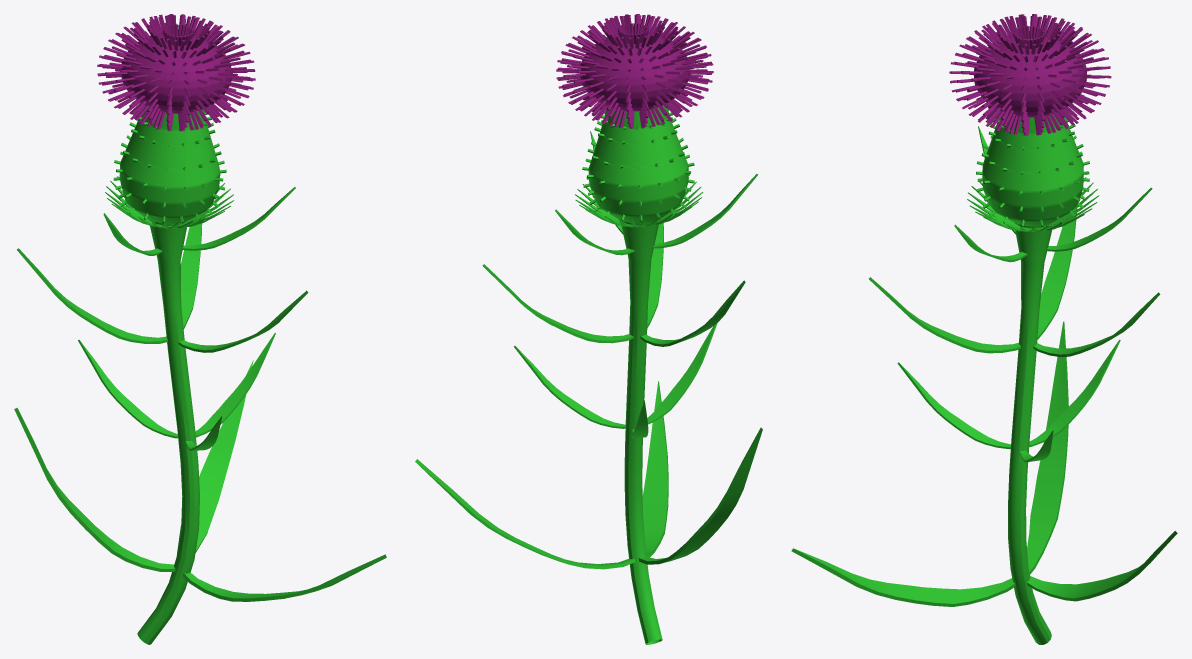
Rendered from Prop_Thistle_Nele_Fabi_M.fbx.
3 views of the same model, side by side, from view 1: azimuth 30°, elevation 25°; view 2: azimuth 150°, elevation 25°; view 3: azimuth 270°, elevation 25° (orthographic). The views are drawn at different scales.
Visible parts, largest first — view 1: Thistle_M; view 2: Thistle_M; view 3: Thistle_M.
Part boxes in pixels (<box>): Thistle_M: <box>14,14,386,644</box>; Thistle_M: <box>415,14,762,644</box>; Thistle_M: <box>791,14,1177,644</box>.
Bounding box in the file's own units: 25.8 × 51.42 × 28.73.
